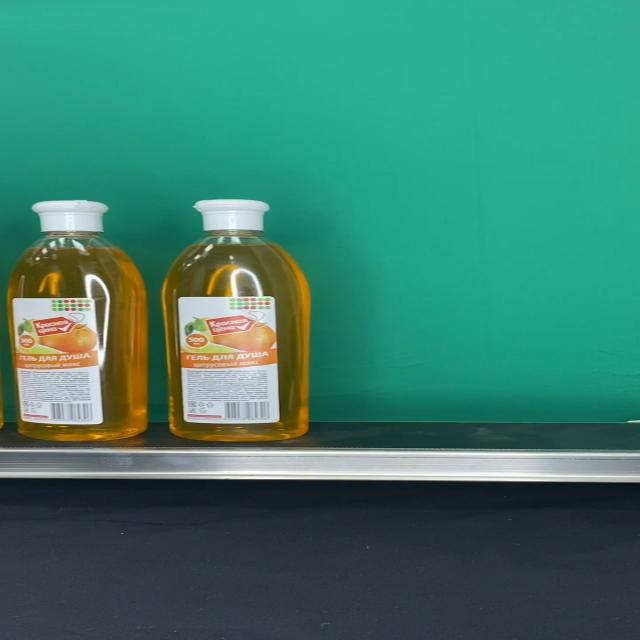Bottle: (162, 200, 311, 441), (7, 200, 147, 442)
Cap: (30, 200, 109, 233), (192, 200, 270, 232)
